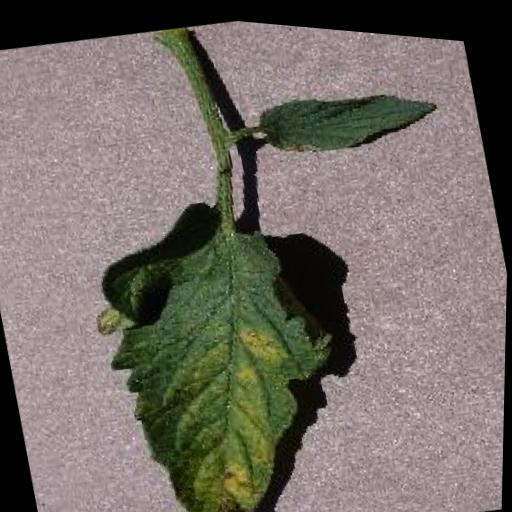Septoria: (71, 170, 371, 512)
